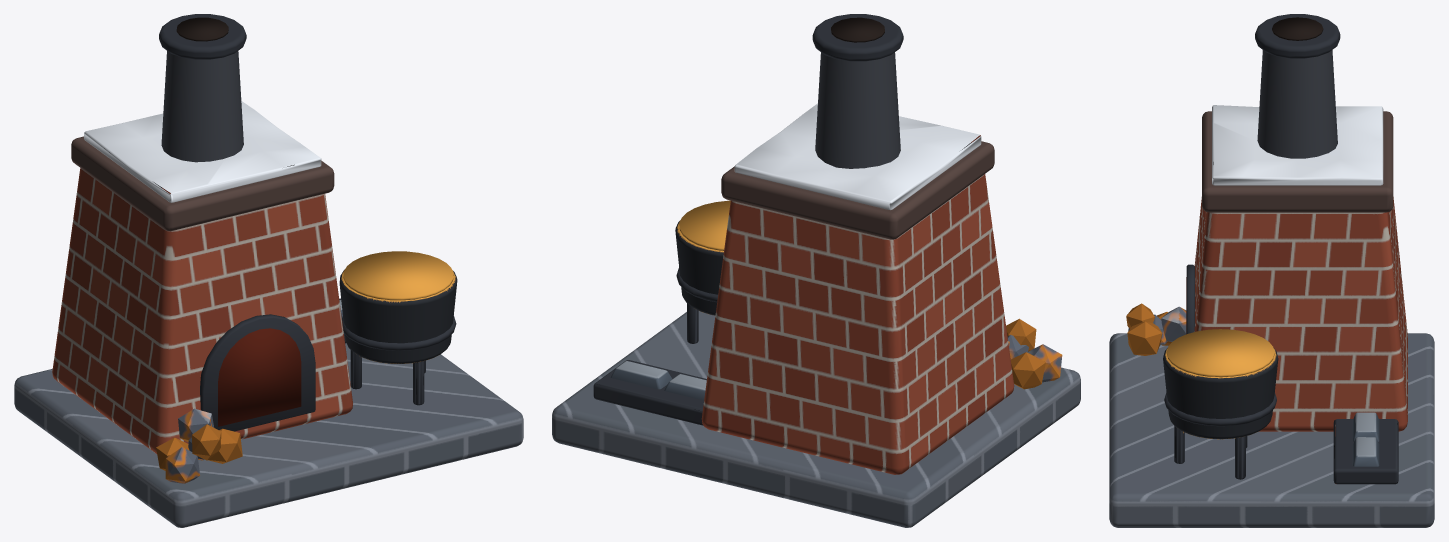
File: station_smelter.glb
3 renders of one model, left to right at view 1: azimuth 30°, elevation 25°; view 2: azimuth 150°, elevation 25°; view 3: azimuth 270°, elevation 25°, orthographic. The views are drawn at different scales.
Visible parts, largest first — view 1: band; view 2: band; view 3: band.
Boxes of the visible parts, x1,y1,x2,y2 form: band: (14,14,523,527); band: (552,14,1080,527); band: (1109,14,1434,527).
Size of the model in its own units: 2.3 by 2.54 by 1.9.
1 material, 1 textured.
